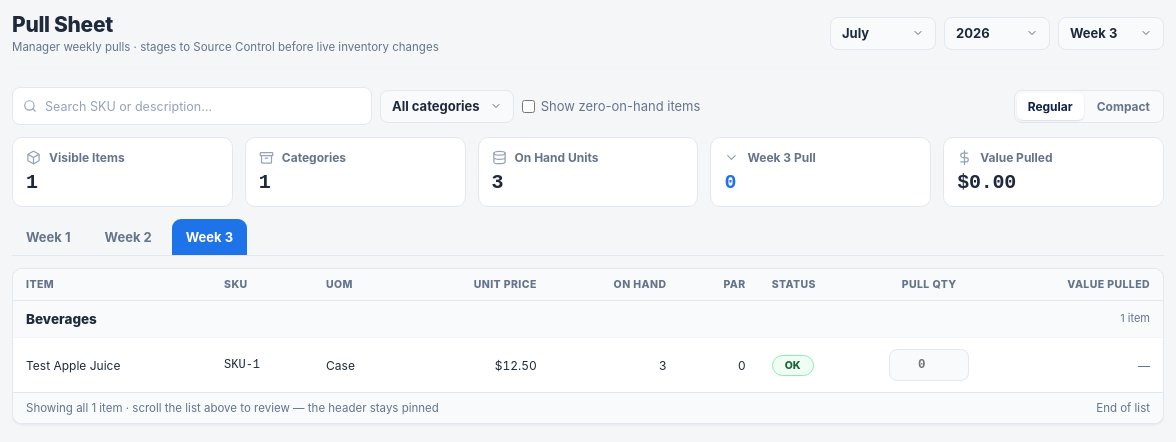
Test case: PullSheet › switches to compact mode while preserving an accessible scroll region
Click the tab "Compact" at (1123,106), box [1086,92,1161,120]
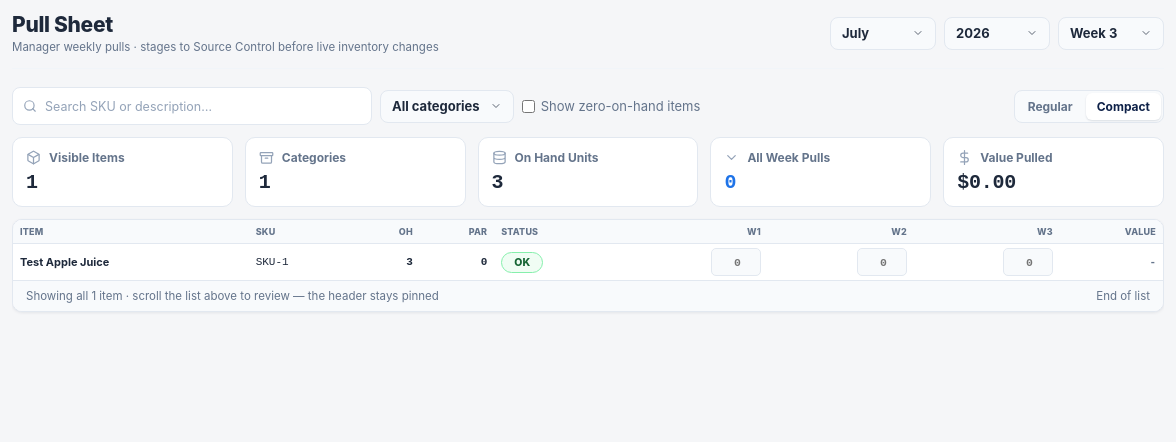
Expected: the table is shown, [13,220,1163,280]
